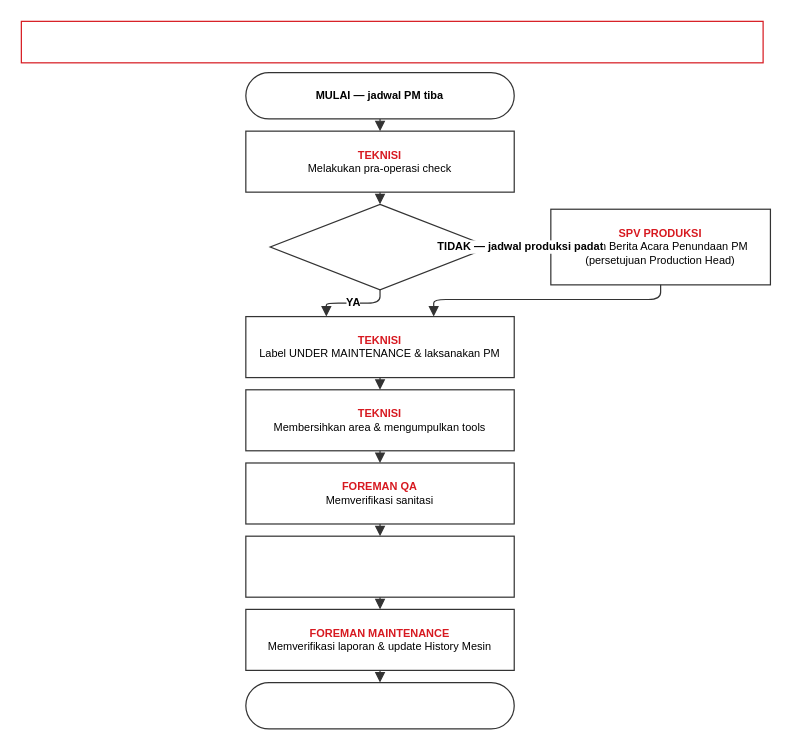
The diagram is 792 pixels wide and 750 high, and some of its shapes have lost their labels. Each missing label, with the box of its shape:
FLOW SOP-AKSI-ENG-04 PREVENTIVE MAINTENANCE — UTUH: (20, 20, 763, 63)
PM bisa dilaksanakan sesuai jadwal?: (269, 203, 490, 290)
SELESAI: (245, 681, 514, 729)
TEKNISI Mencatat Preventive Maintenance Report: (245, 535, 514, 597)
